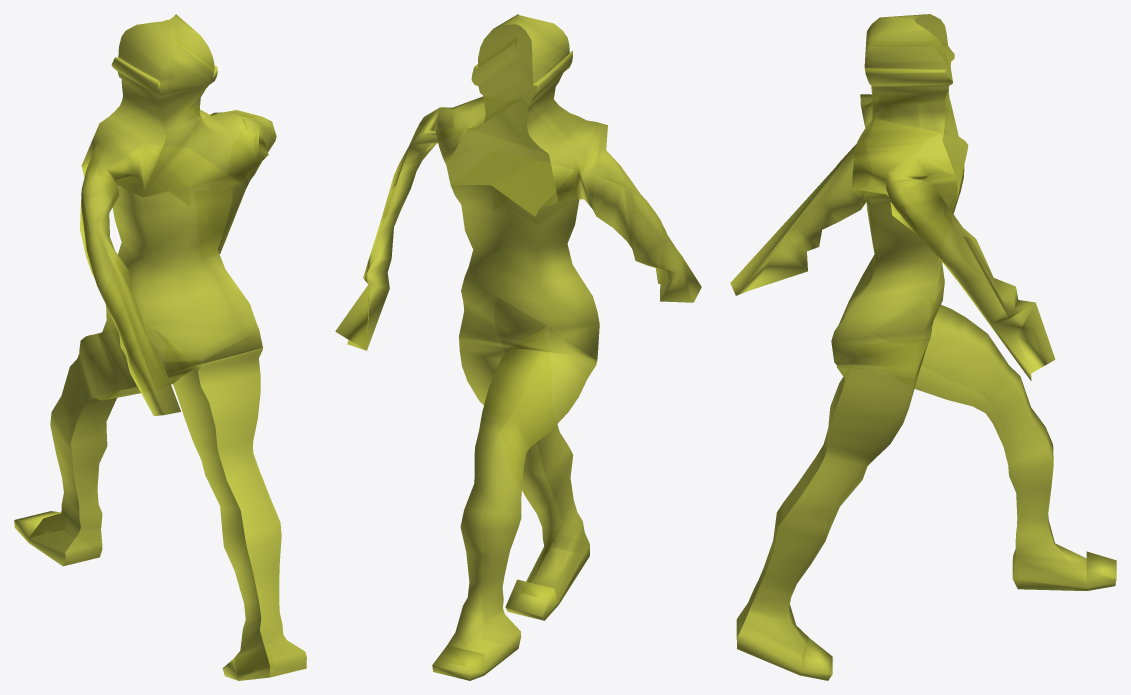
File: woman_000022.obj
3 renders of one model, left to right at view 1: azimuth 30°, elevation 25°; view 2: azimuth 150°, elevation 25°; view 3: azimuth 270°, elevation 25°, orthographic.
Parts seen in each view (by area): view 1: Cube_Cube.001; view 2: Cube_Cube.001; view 3: Cube_Cube.001.
Part boxes in pixels (x1=…): Cube_Cube.001: x1=14, y1=14, x2=306, y2=680; Cube_Cube.001: x1=335, y1=14, x2=701, y2=680; Cube_Cube.001: x1=730, y1=14, x2=1116, y2=680.
Bounding box in the file's own units: 3.62 × 10 × 5.51.
